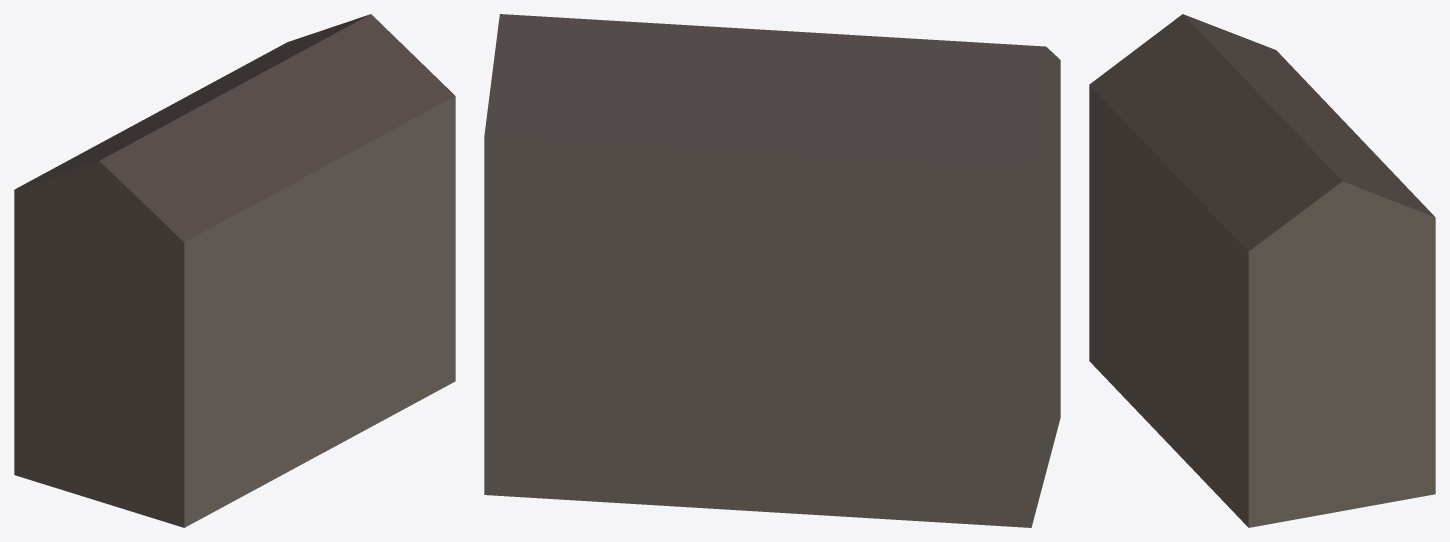
The picture shows the model from 3 angles, left to right: view 1: azimuth 30°, elevation 25°; view 2: azimuth 150°, elevation 25°; view 3: azimuth 270°, elevation 25°; orthographic projection. The views are drawn at different scales.
Visible parts, largest first — view 1: HP-w505643584; view 2: HP-w505643584; view 3: HP-w505643584.
Part boxes in pixels (left/top/right/bottom): HP-w505643584: left=14, top=14, right=455, bottom=527; HP-w505643584: left=484, top=14, right=1060, bottom=527; HP-w505643584: left=1089, top=14, right=1435, bottom=527.
Bounding box in the file's own units: 9.39 × 7.16 × 6.82.
